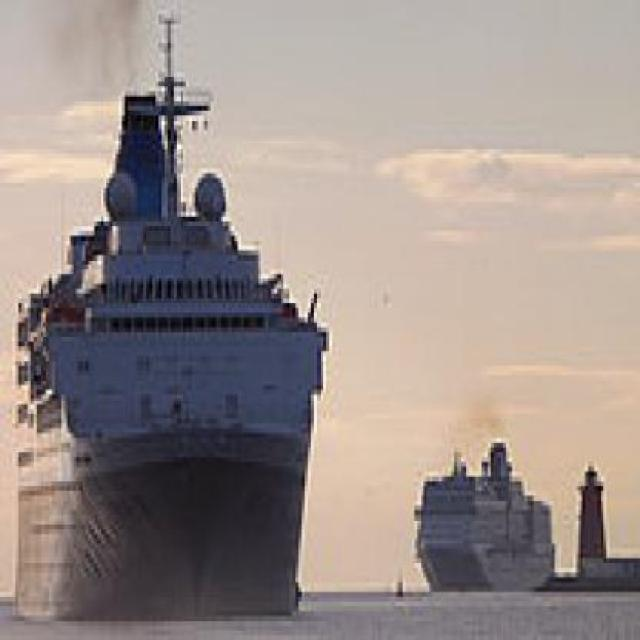cruise: (4, 6, 336, 632), (412, 424, 568, 607)
